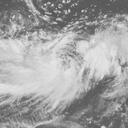cyclone: (32, 39, 92, 103)
